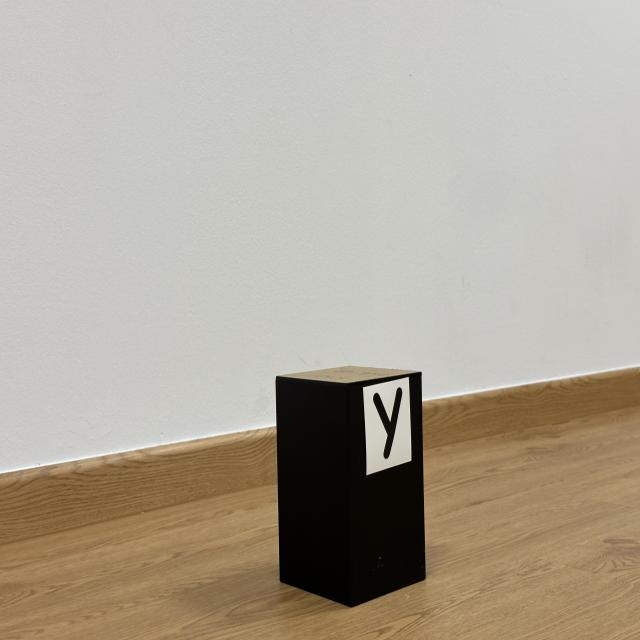Y: (372, 387, 402, 458)
